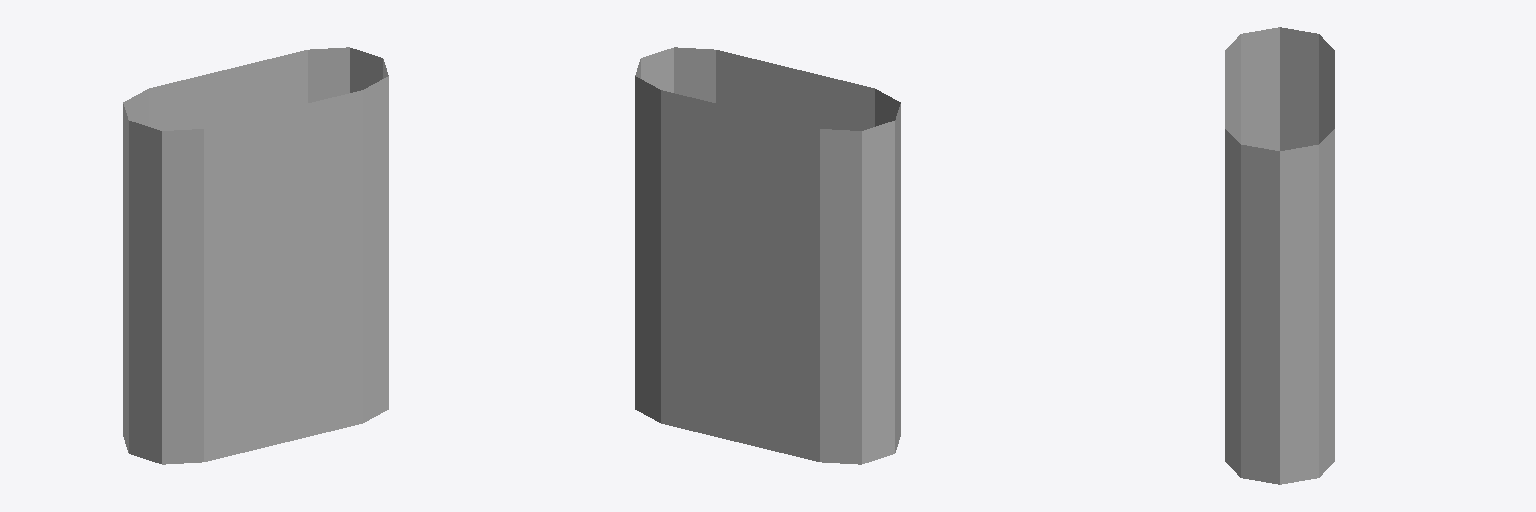
The model's file is ovalbridgepillar.obj.
The picture shows the model from 3 angles: view 1: azimuth 30°, elevation 25°; view 2: azimuth 150°, elevation 25°; view 3: azimuth 270°, elevation 25°; orthographic projection.
Parts seen in each view (by area): view 1: Cylinder.001; view 2: Cylinder.001; view 3: Cylinder.001.
Boxes of the visible parts, <box> form: Cylinder.001: <box>123,47,388,464</box>; Cylinder.001: <box>635,47,900,464</box>; Cylinder.001: <box>1225,27,1334,484</box>.
Size of the model in its own units: 1.59 by 2 by 0.5984.